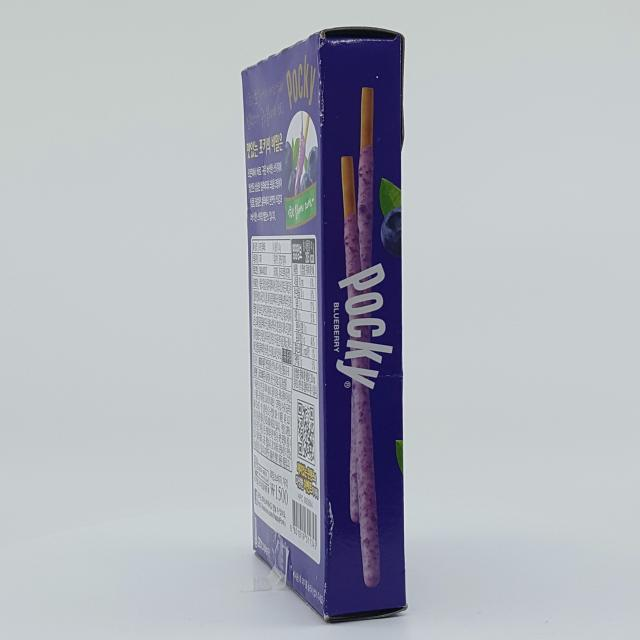-41G: (242, 27, 409, 624)
